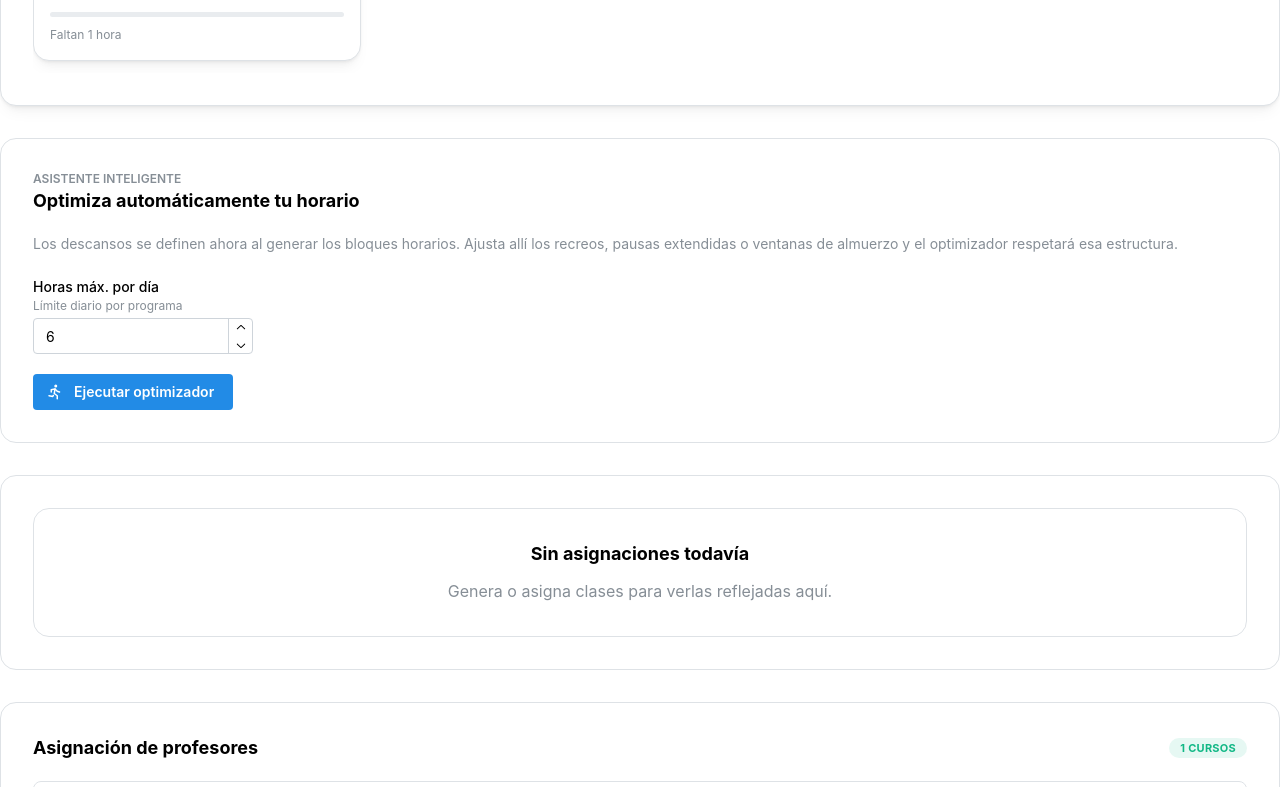
Test case: SchedulePlanner drag & drop experience › should handle incomplete quality metrics gracefully
(page scrolled)
Click the button "Ejecutar optimizador" at point(133, 392), box [33,374,233,410]
(page scrolled)
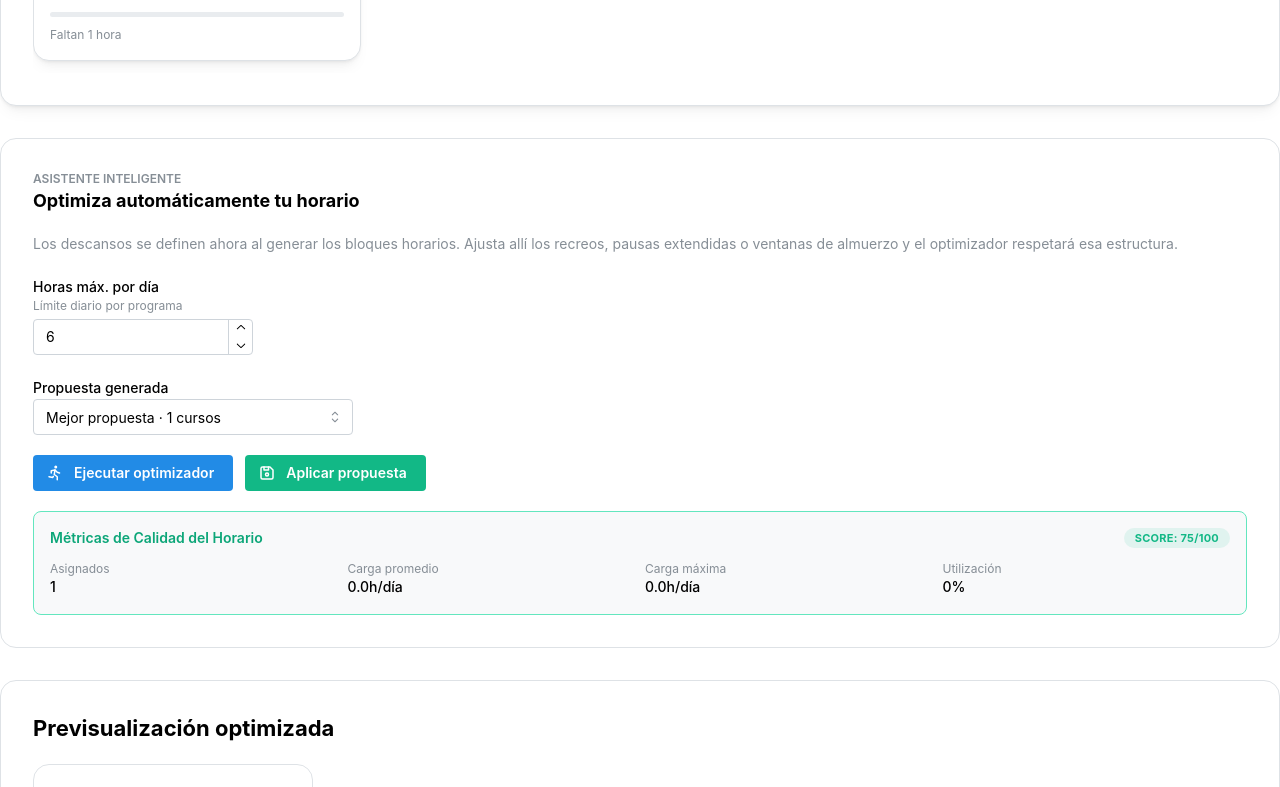
Expected: the text "Score: 75/100" is shown, [1135,530,1219,548]
Expected: the text "Métricas de Calidad del Horario" is shown, [50,528,263,549]
Expected: the text "Asignados" is shown, [50,561,110,576]
